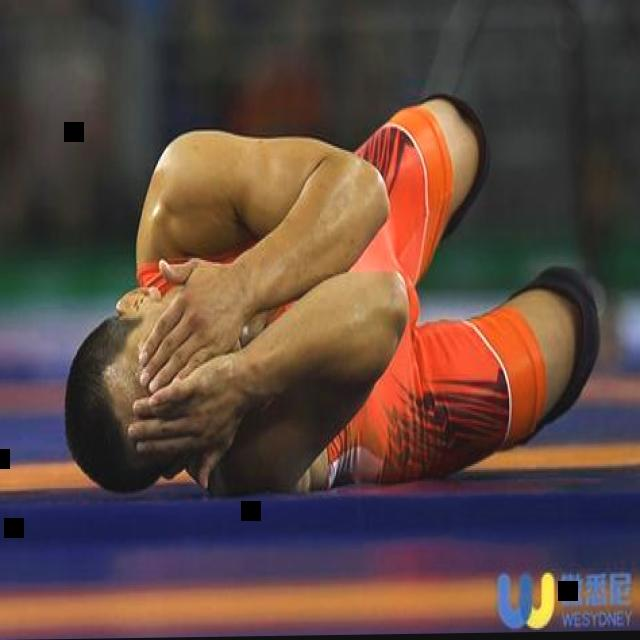Fall-Detected: (47, 46, 594, 519)
